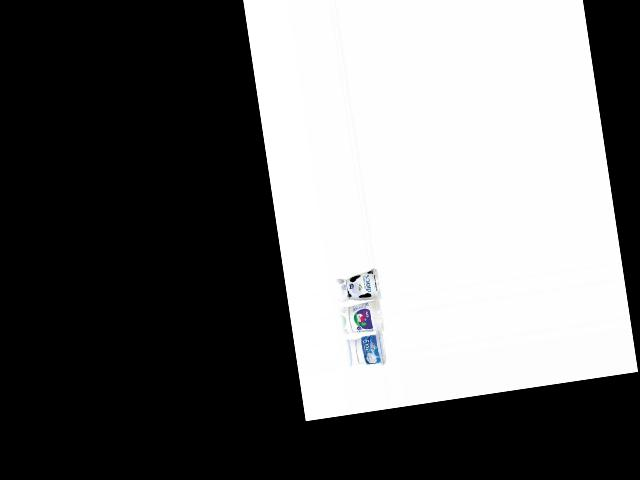cotage: (349, 330, 390, 369)
